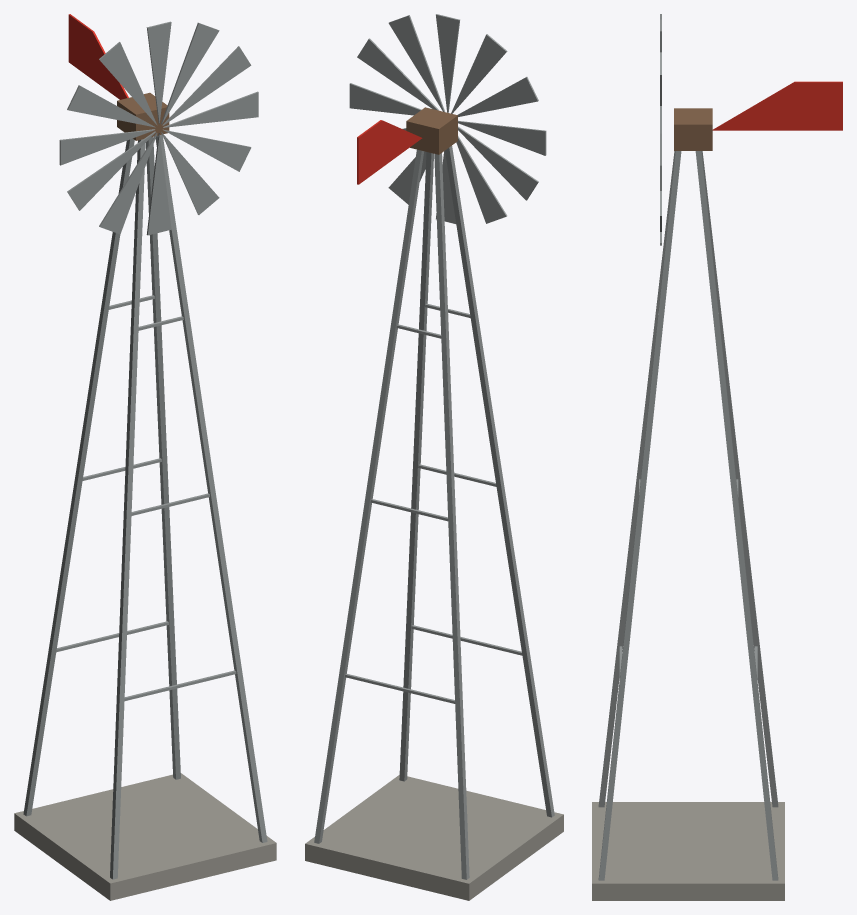
The model's file is cata_vento_a.glb.
3 renders of one model, left to right at view 1: azimuth 30°, elevation 25°; view 2: azimuth 150°, elevation 25°; view 3: azimuth 270°, elevation 25°, orthographic.
Parts seen in each view (by area): view 1: cata_vento_a; view 2: cata_vento_a; view 3: cata_vento_a.
Boxes of the visible parts, <box> form: cata_vento_a: <box>14,14,276,900</box>; cata_vento_a: <box>305,14,563,900</box>; cata_vento_a: <box>592,14,842,900</box>.
Size of the model in its own units: 4.77 by 19.08 by 5.2.
